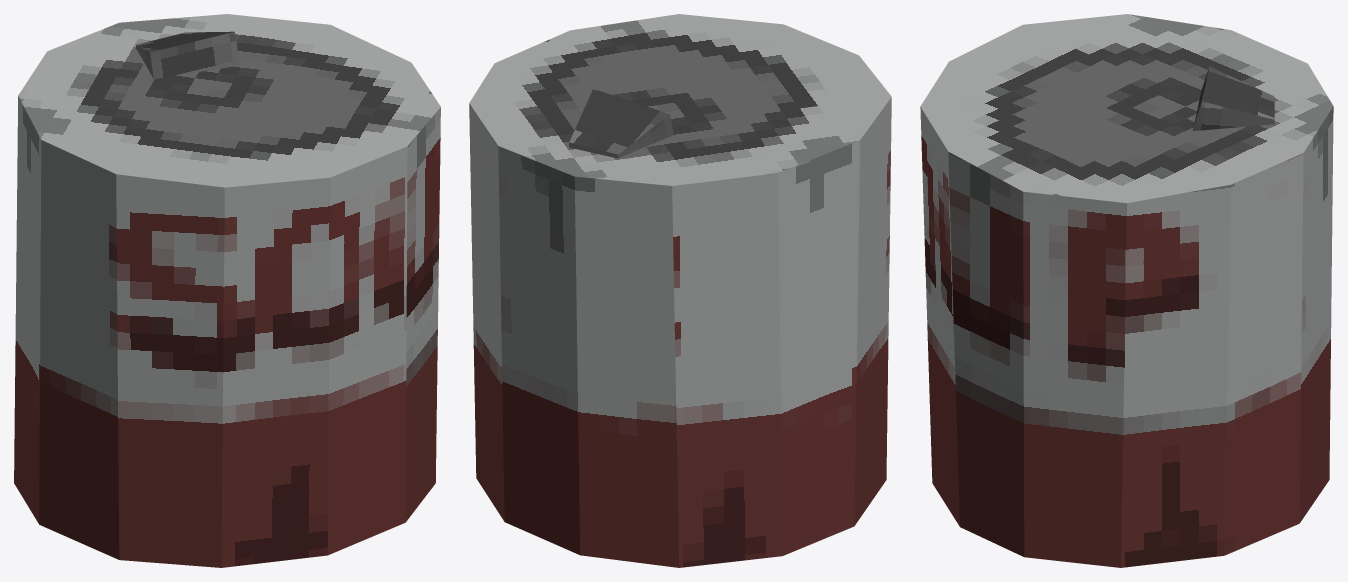
Rendered from Can.fbx.
3 views of the same model, side by side, from view 1: azimuth 30°, elevation 25°; view 2: azimuth 150°, elevation 25°; view 3: azimuth 270°, elevation 25° (orthographic). The views are drawn at different scales.
Parts seen in each view (by area): view 1: Can; view 2: Can; view 3: Can.
Boxes of the visible parts, <box> form: Can: <box>14,14,440,567</box>; Can: <box>469,14,891,567</box>; Can: <box>920,14,1333,567</box>.
Bounding box in the file's own units: 0.2167 × 0.2306 × 0.2142.
